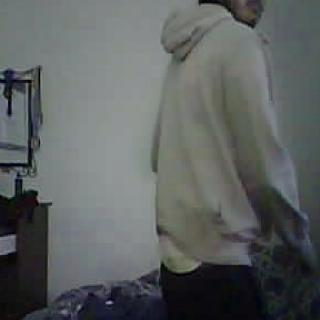Navy Sweatpants: (156, 258, 266, 320)
Yellow Hoodie: (154, 8, 292, 262)
